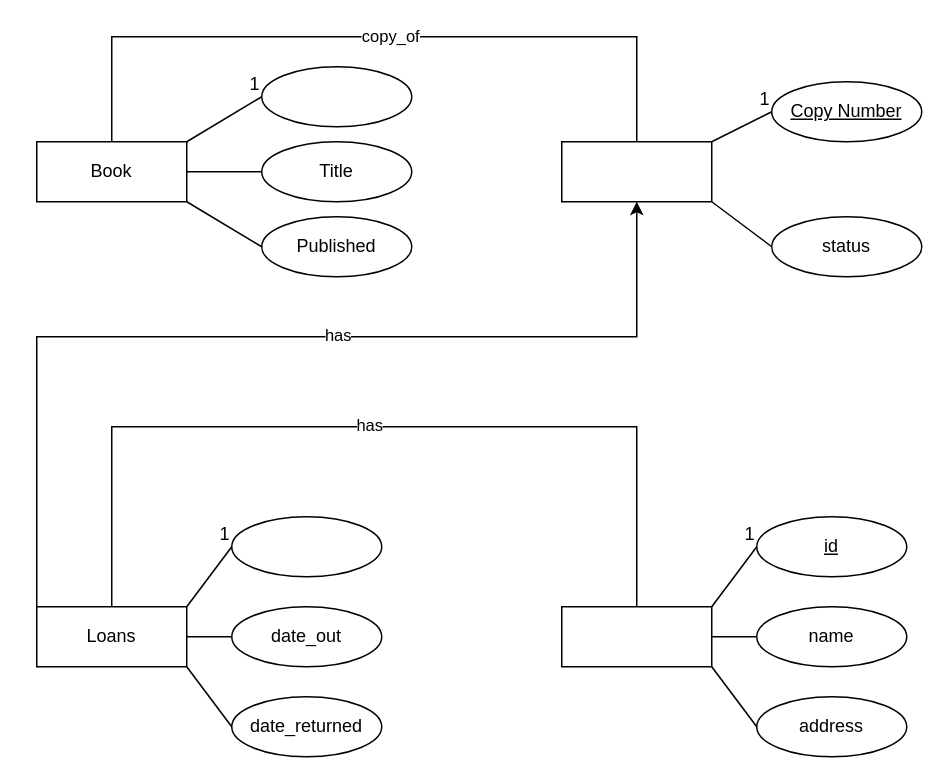
This 948x783 diagram has some shape labels left out. Here are the shapes that lost their labels. From the top down, the centre of each, then its label:
At point (336, 96): "ISBN".
At point (636, 171): "Book Copies".
At point (306, 546): "loan_id".
At point (636, 636): "Borrowers".
